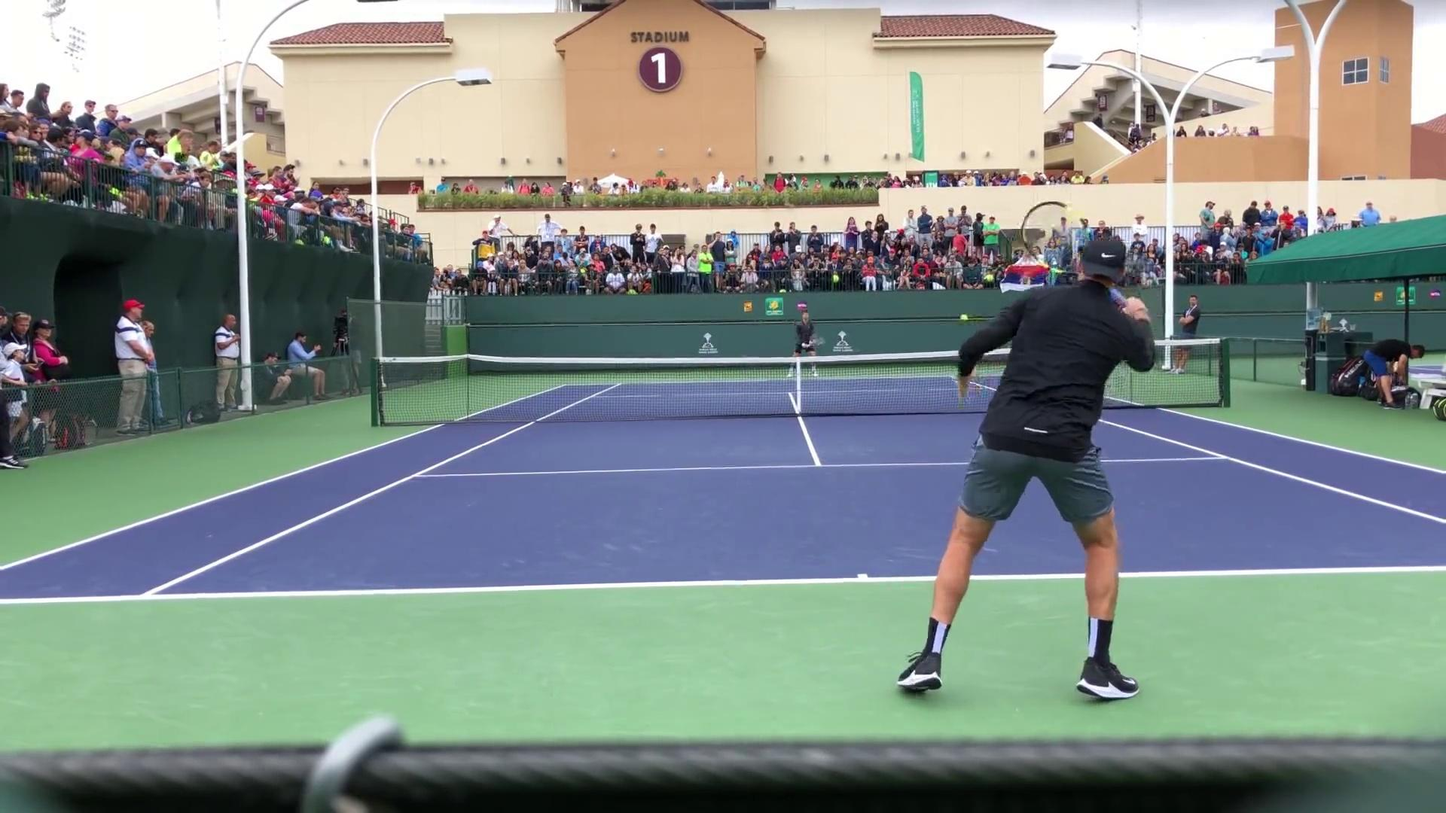ball: (956, 314, 969, 321)
